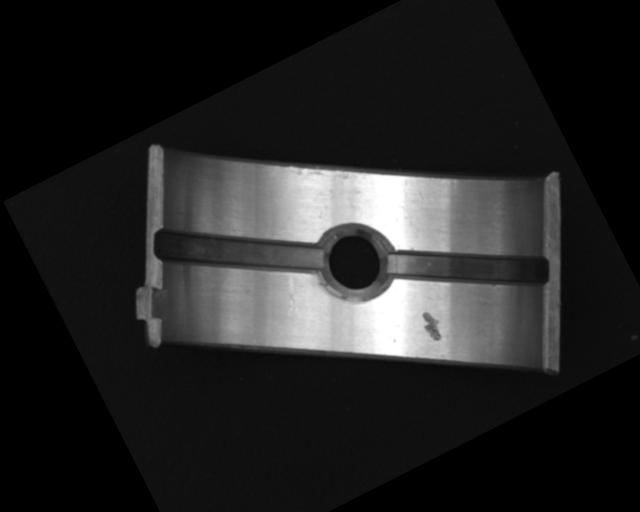bruise: (416, 306, 450, 346)
gap: (147, 169, 327, 333), (382, 193, 556, 345)
hole: (309, 217, 400, 313)
nick: (272, 273, 311, 323)
